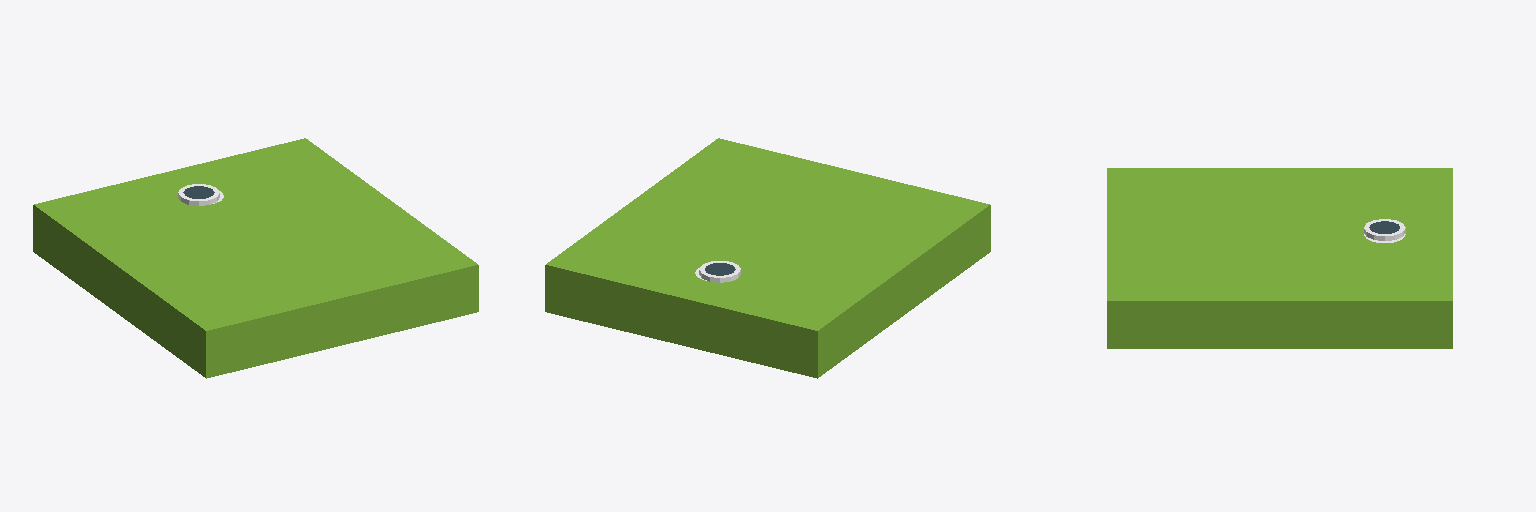
The model's file is model-triangulated.obj.
3 renders of one model, left to right at view 1: azimuth 30°, elevation 25°; view 2: azimuth 150°, elevation 25°; view 3: azimuth 270°, elevation 25°, orthographic.
Parts seen in each view (by area): view 1: group[number redacted]; view 2: group[number redacted]; view 3: group[number redacted].
Boxes of the visible parts, box(x1,y1,x2,y2) form: group[number redacted]: box(33, 138, 478, 378); group[number redacted]: box(545, 138, 990, 378); group[number redacted]: box(1107, 168, 1452, 348).
Size of the model in its own units: 0.6 by 0.11 by 0.66.